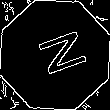N_W: (25, 28, 85, 82)
